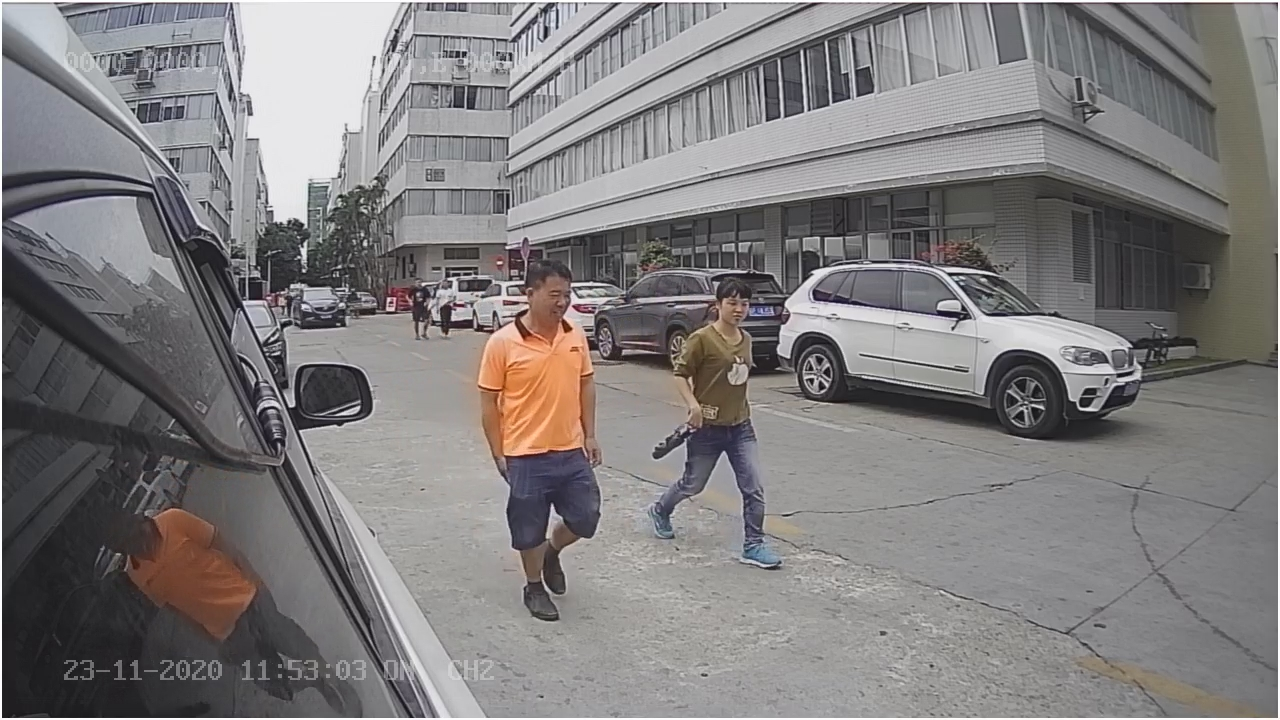person: (484, 259, 605, 603), (670, 280, 780, 573)
